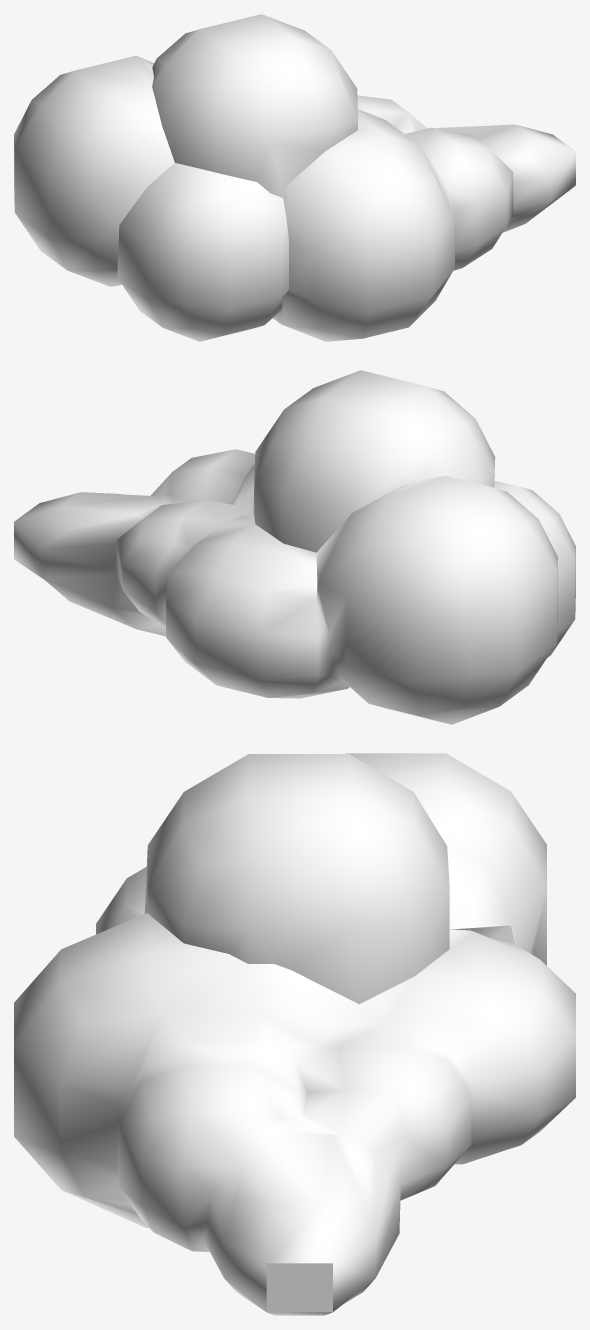
Rendered from Cloud1.fbx.
3 renders of one model, top to bottom at view 1: azimuth 30°, elevation 25°; view 2: azimuth 150°, elevation 25°; view 3: azimuth 270°, elevation 25°, orthographic. The views are drawn at different scales.
Visible parts, largest first — view 1: Cloud_01; view 2: Cloud_01; view 3: Cloud_01.
Boxes of the visible parts, box(x1,y1,x2,y2) form: Cloud_01: box(14, 14, 575, 341); Cloud_01: box(14, 370, 575, 724); Cloud_01: box(14, 753, 575, 1315).
Size of the model in its own units: 592 by 403 by 311.
1 material, 1 textured.
